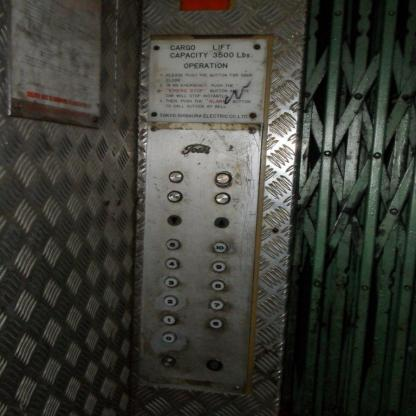1: (162, 314, 177, 324)
10: (212, 241, 228, 253)
2: (162, 294, 178, 306)
3: (164, 276, 178, 288)
4: (164, 257, 180, 269)
5: (165, 238, 180, 250)
6: (208, 317, 224, 329)
7: (209, 299, 224, 310)
8: (209, 279, 226, 291)
9: (210, 260, 228, 272)
G: (161, 330, 176, 344)
blur: (214, 170, 232, 185), (205, 358, 223, 372), (166, 189, 182, 202), (168, 170, 182, 182), (161, 356, 175, 366)
down: (166, 214, 181, 226)
text_light: (214, 192, 230, 204)
up: (214, 217, 228, 227)
